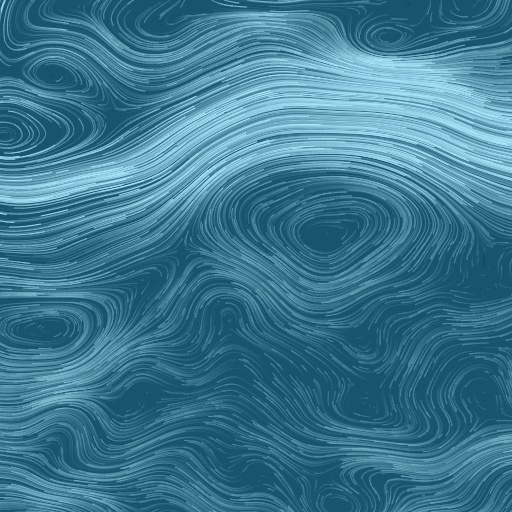eddy: (260, 190, 398, 279), (2, 302, 91, 359), (24, 54, 97, 98), (357, 16, 418, 55)
